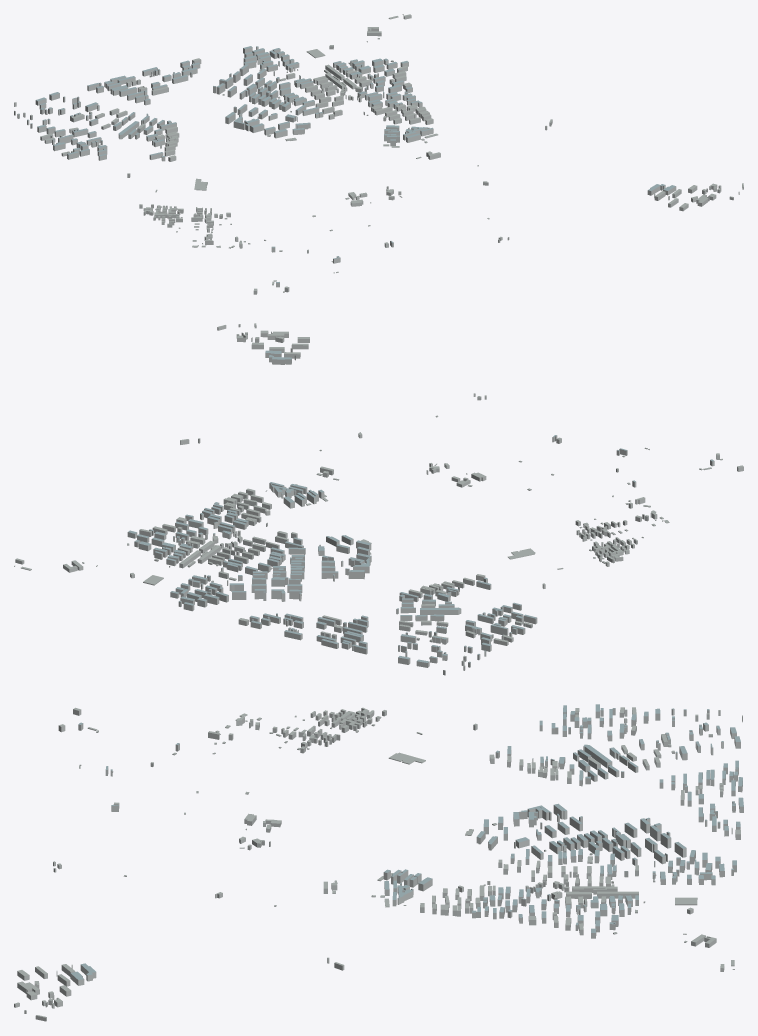
File: far.glb
The picture shows the model from 3 angles, top to bottom: view 1: azimuth 30°, elevation 25°; view 2: azimuth 150°, elevation 25°; view 3: azimuth 270°, elevation 25°; orthographic projection. The views are drawn at different scales.
Bounding box in the file's own units: 2108 × 31.85 × 2095.
